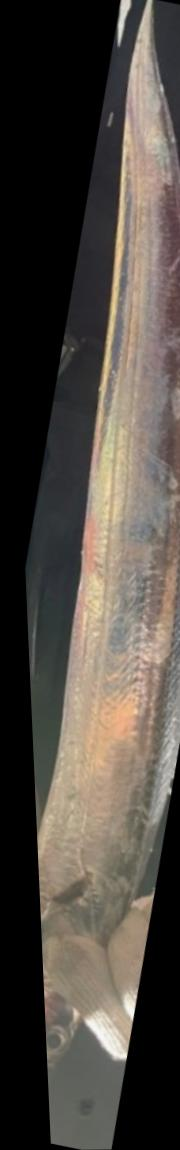fish: (29, 0, 180, 1071)
